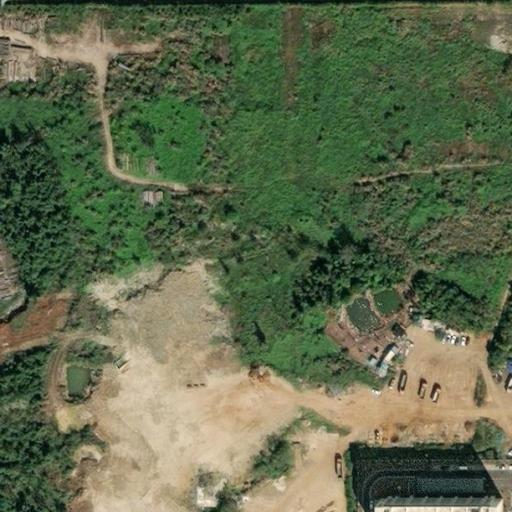building: (377, 496, 499, 512)
